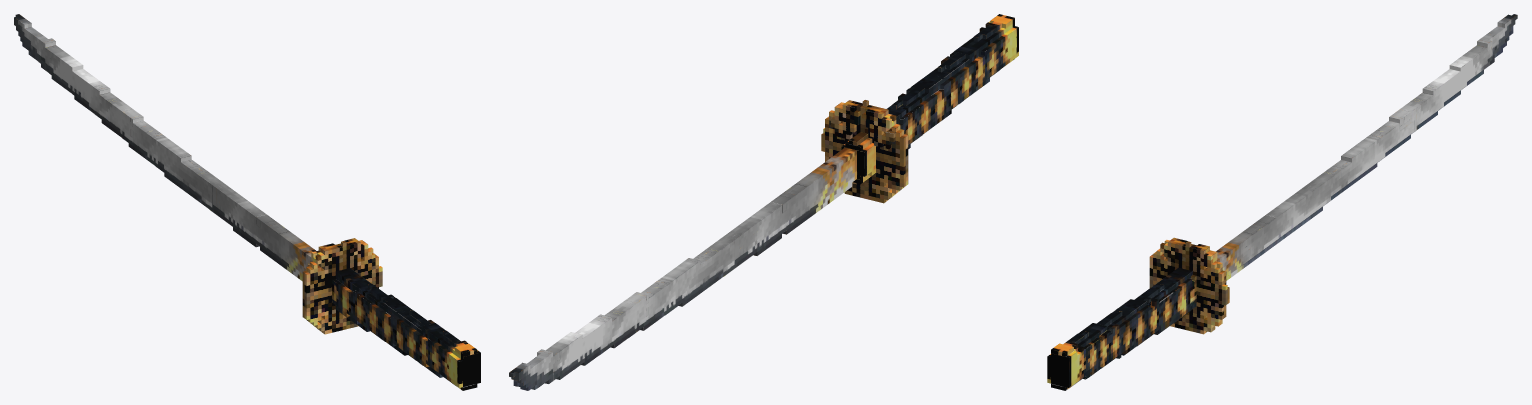
The model's file is voxel_shotogatana.obj.
3 views of the same model, side by side, from view 1: azimuth 30°, elevation 25°; view 2: azimuth 150°, elevation 25°; view 3: azimuth 330°, elevation 25° (orthographic). The views are drawn at different scales.
Parts seen in each view (by area): view 1: Shotogatana; view 2: Shotogatana; view 3: Shotogatana.
Part boxes in pixels (x1,y1,x2,y2): Shotogatana: [14, 14, 480, 390]; Shotogatana: [509, 14, 1018, 390]; Shotogatana: [1047, 14, 1517, 390].
Bounding box in the file's own units: 0.2904 × 0.318 × 3.01.
